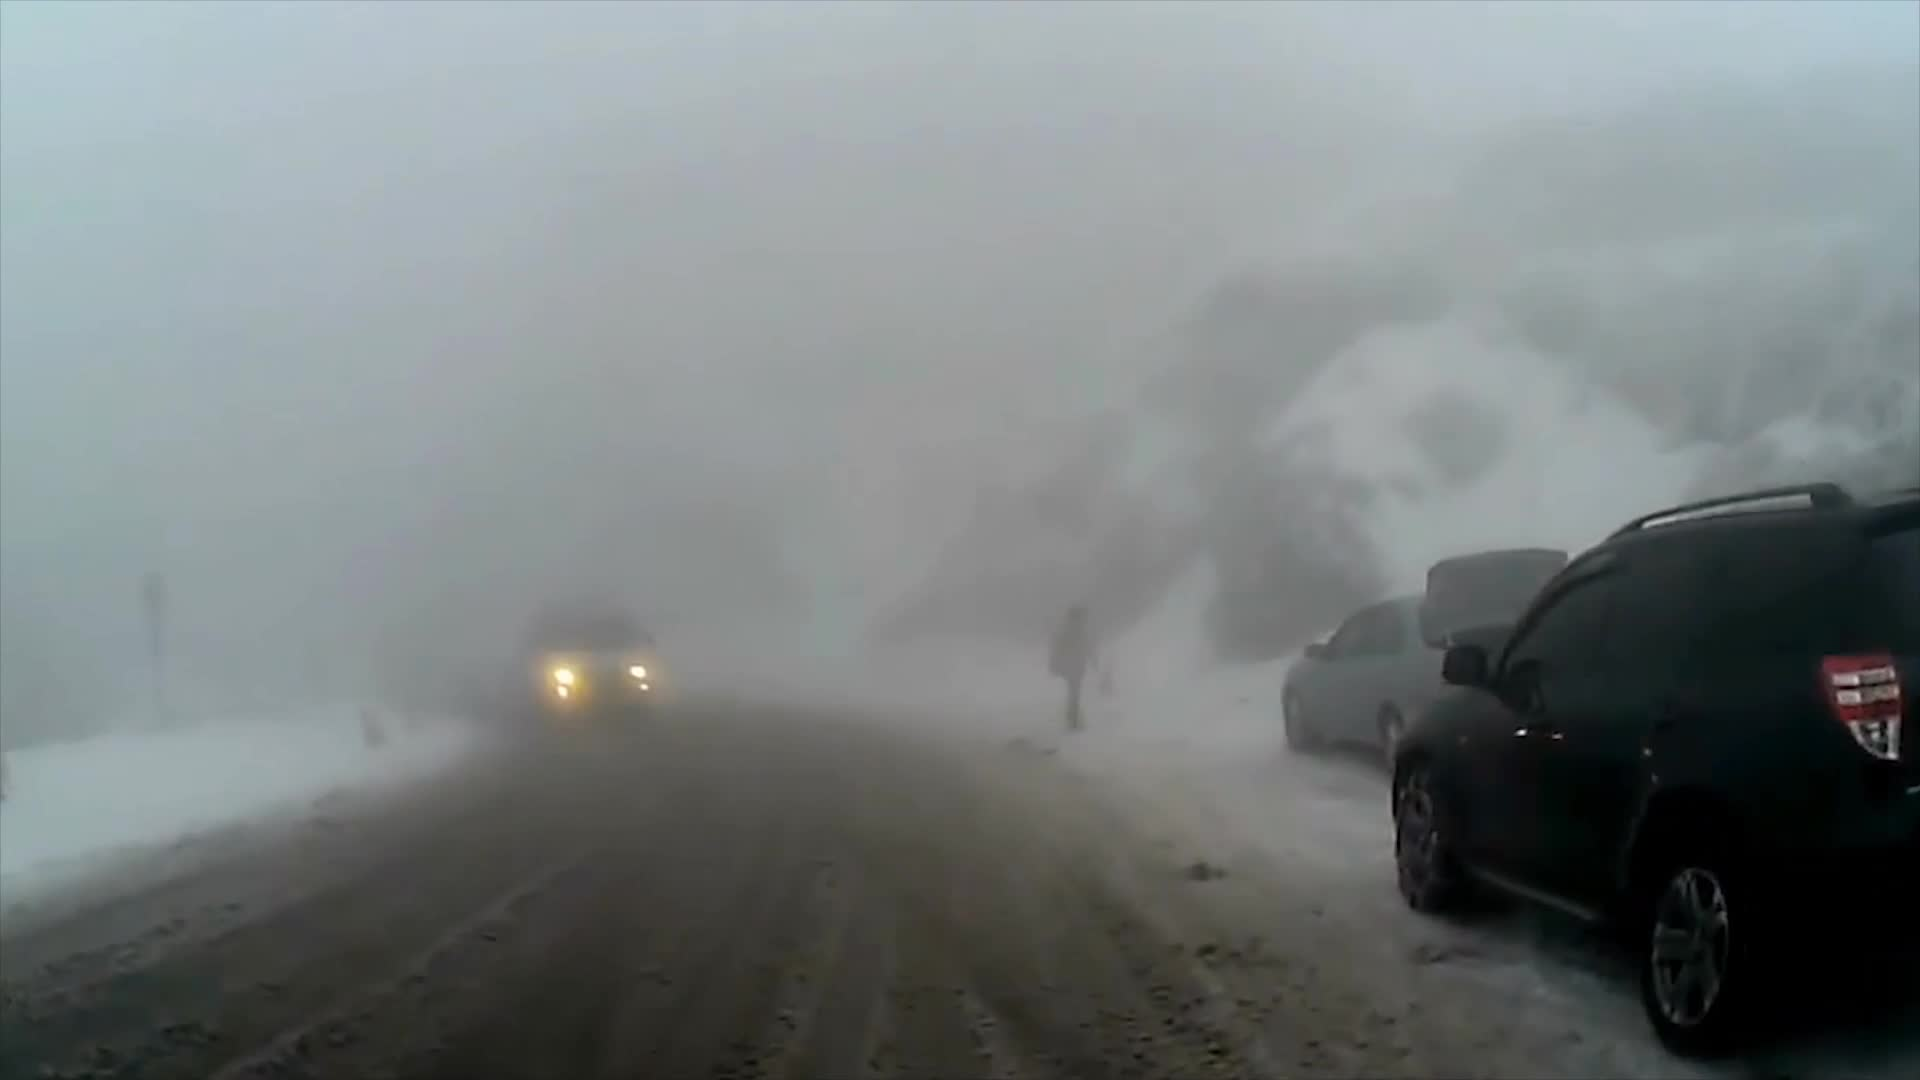pedestrian: (1050, 607, 1098, 731)
vehicle: (1390, 480, 1920, 1065), (1278, 546, 1616, 778), (524, 588, 661, 722)
